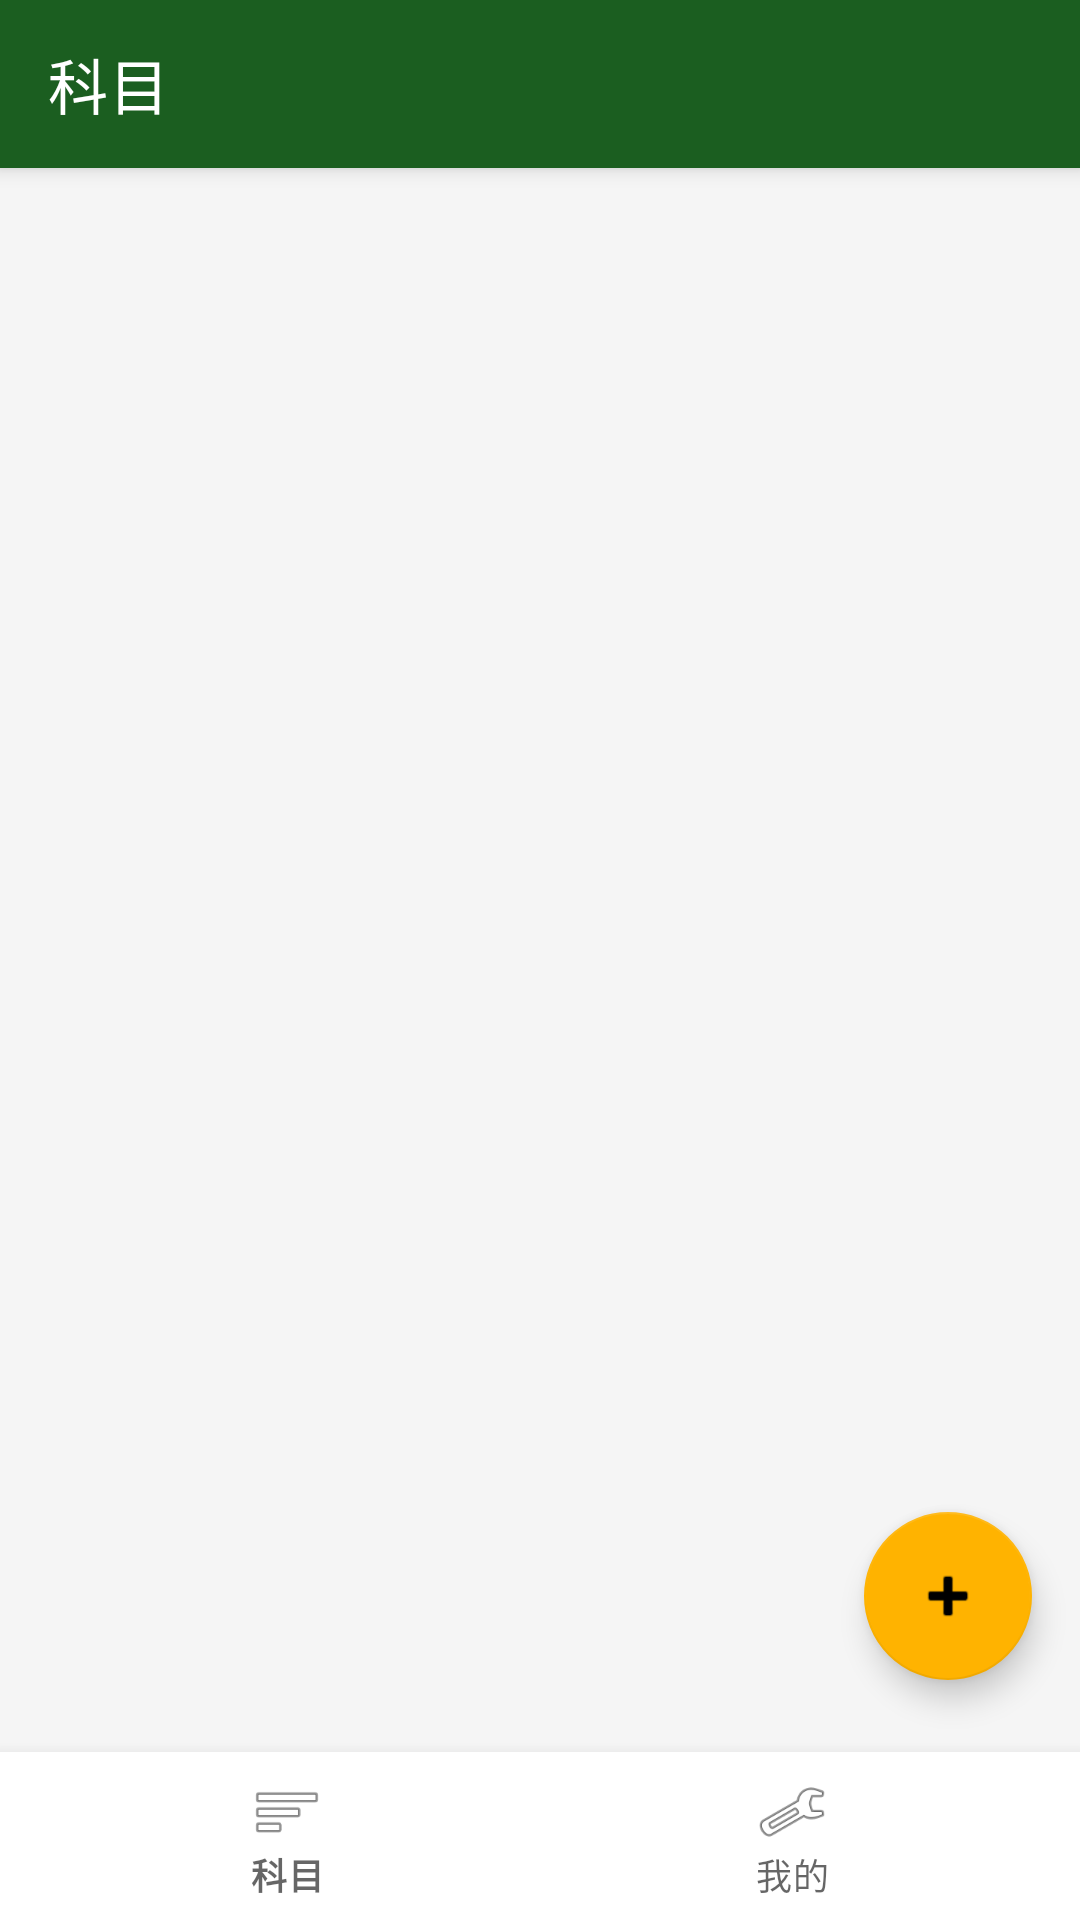

Locate icon controls on the screen. Image size 1080 x 1920, boxes as (x1, y1, x2, y2).
添加科目: (864, 1512, 1032, 1680)
